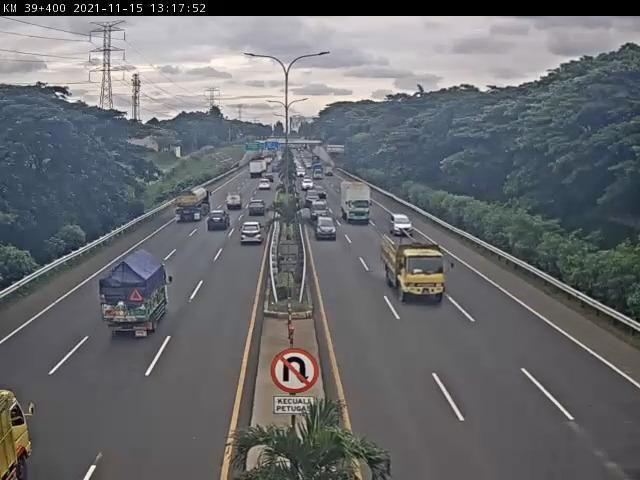car: (240, 221, 264, 246), (390, 214, 414, 237), (317, 217, 339, 241), (207, 213, 228, 234), (311, 202, 331, 221), (248, 199, 268, 217), (227, 194, 244, 209)
truck: (95, 251, 173, 339), (384, 242, 447, 305), (341, 180, 378, 227), (176, 189, 210, 226)
